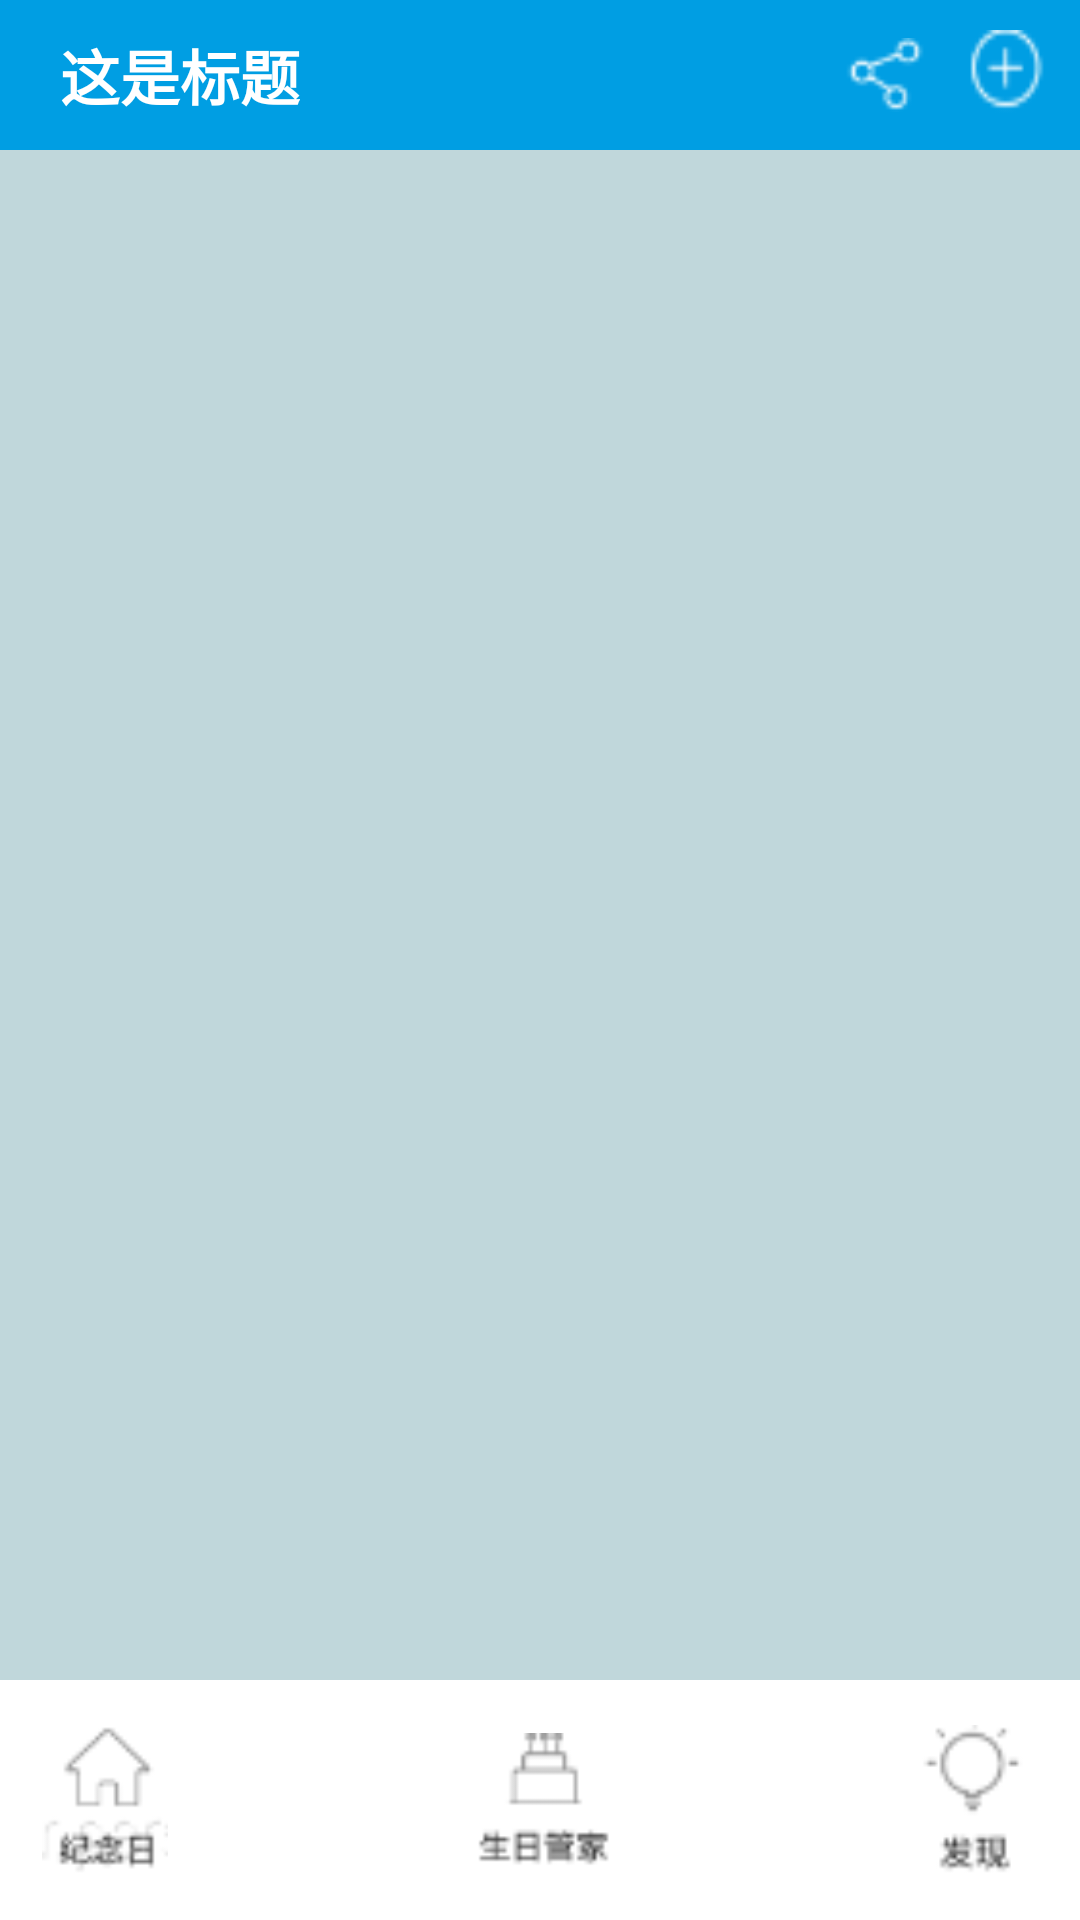

Where to tap for icons on this 1080px x 1920px app screen, as (x=x, y=y):
share: (x=885, y=74)
